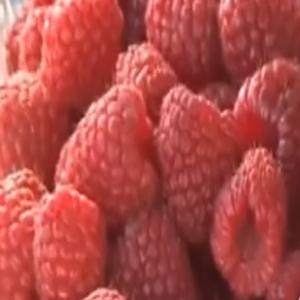raspb: (40, 1, 291, 300)
